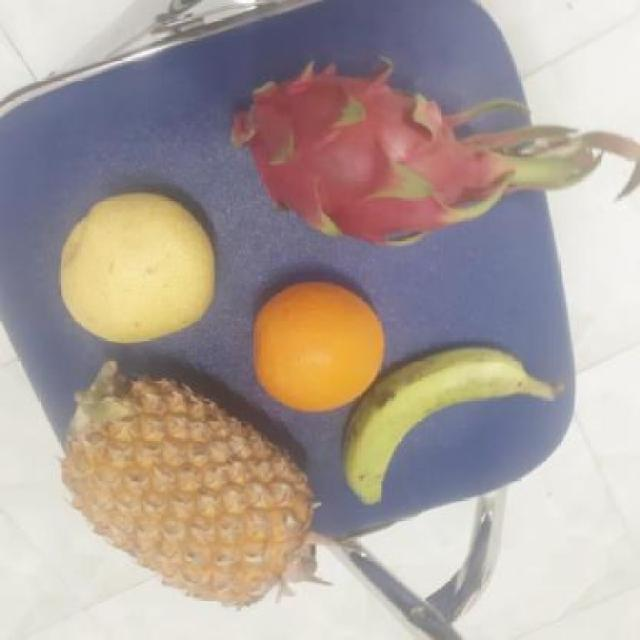banana: (327, 342, 544, 502)
dragon fruit: (212, 60, 500, 251)
guava: (54, 189, 214, 340)
pear: (246, 280, 388, 412)
pineapple: (64, 362, 311, 600)
